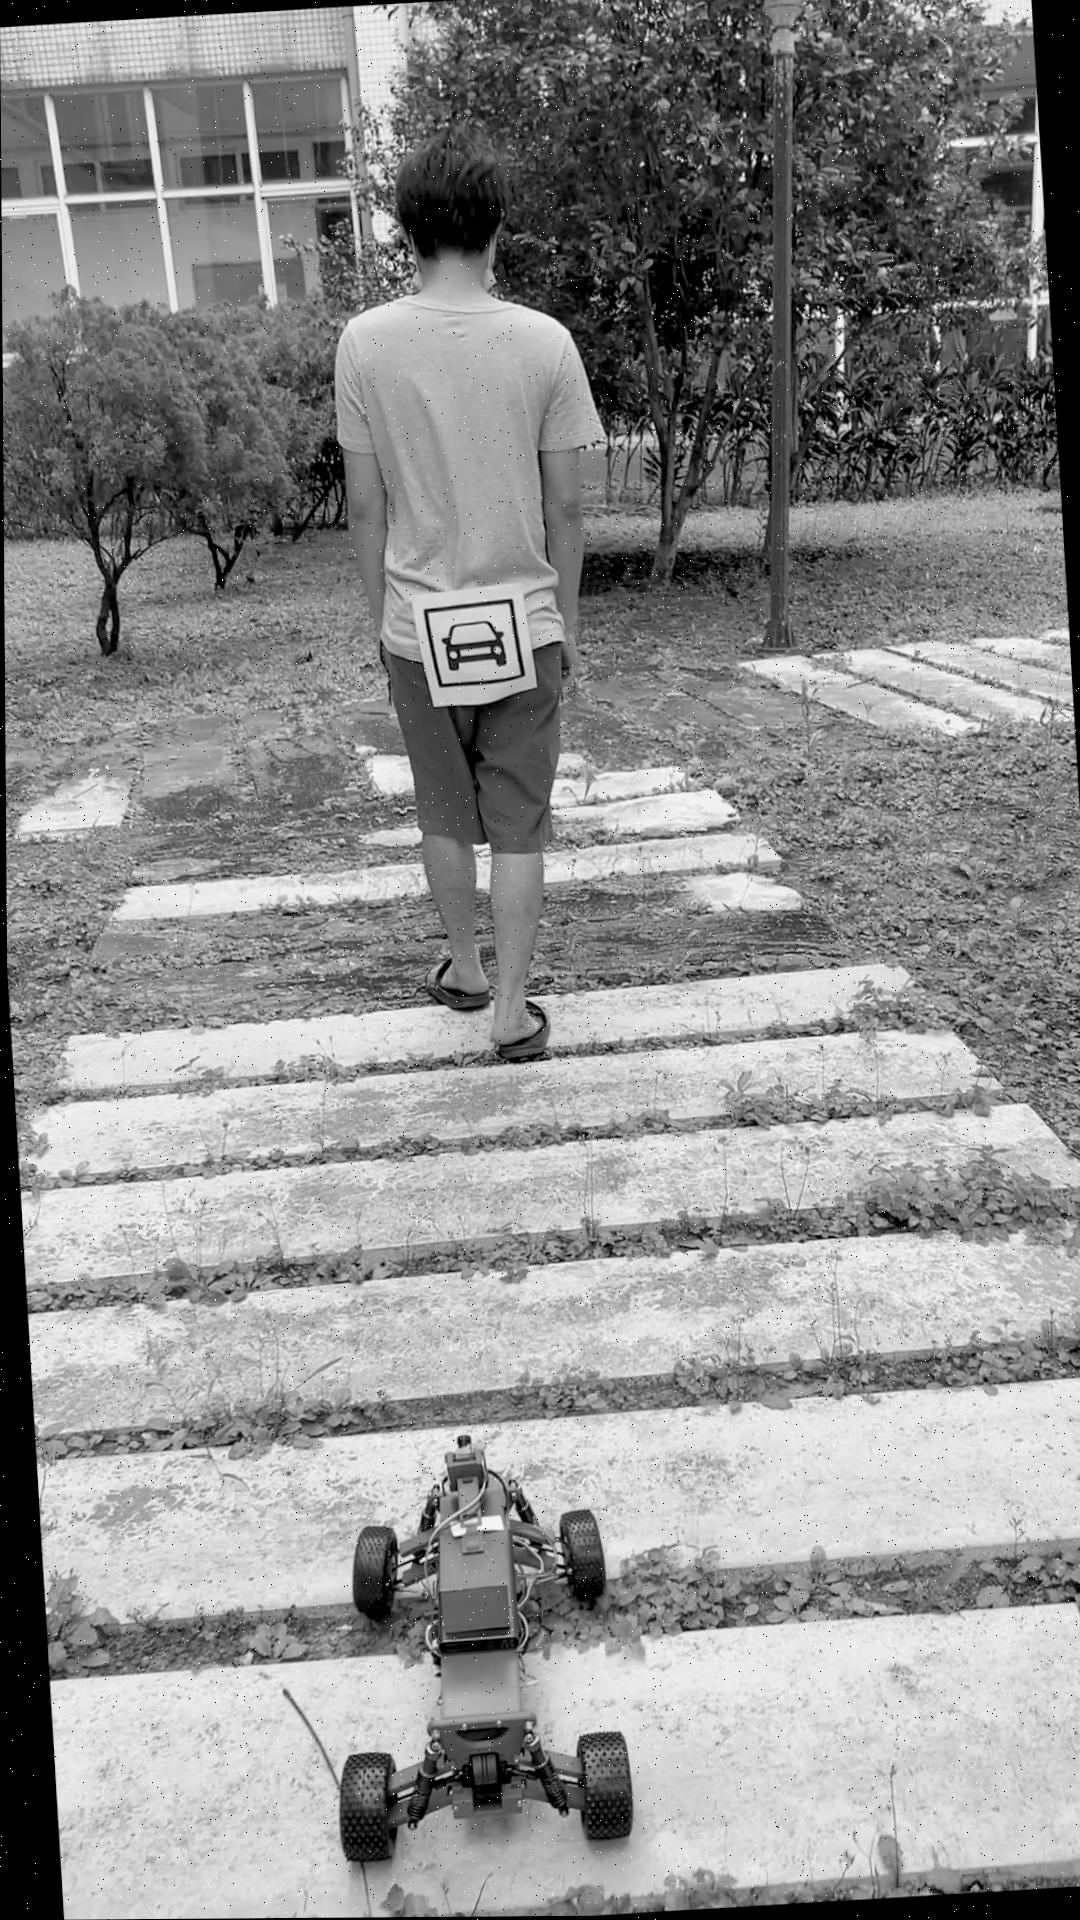car_img: (422, 597, 525, 690)
